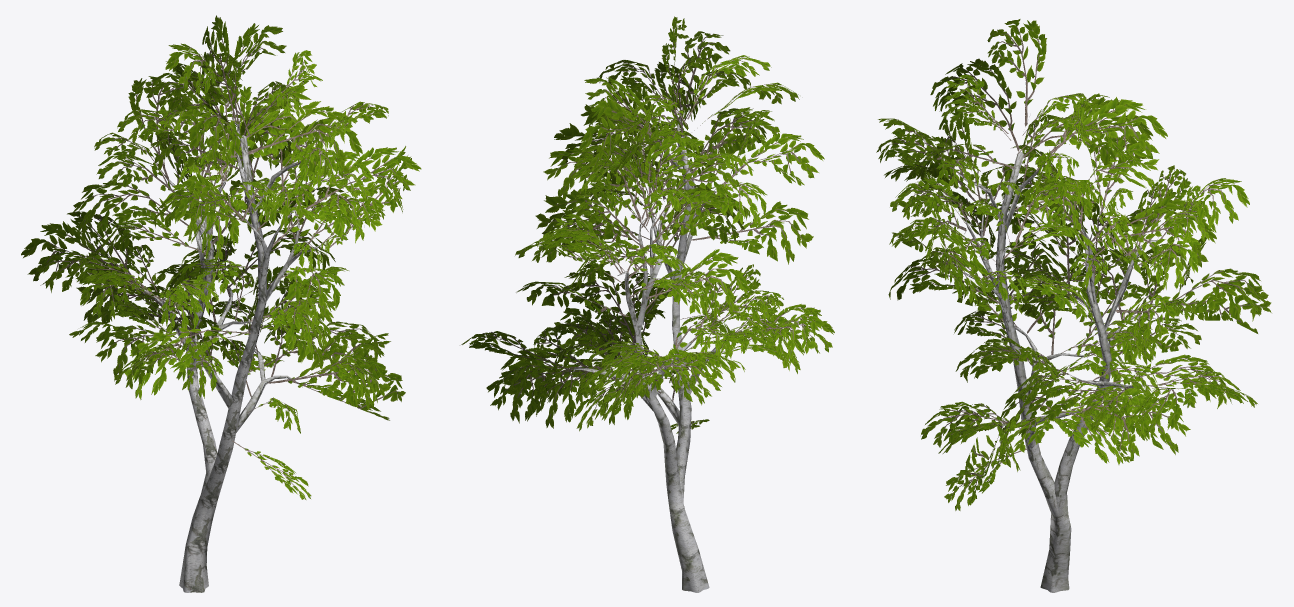
The model's file is birch.glb.
3 views of the same model, side by side, from view 1: azimuth 30°, elevation 25°; view 2: azimuth 150°, elevation 25°; view 3: azimuth 270°, elevation 25° (orthographic). The views are drawn at different scales.
Visible parts, largest first — view 1: m; view 2: m; view 3: m.
Boxes of the visible parts, x1,y1,x2,y2 form: m: (21, 15, 421, 592); m: (461, 16, 834, 592); m: (876, 19, 1271, 592).
Bounding box in the file's own units: 0.6122 × 1 × 0.675.
2 materials, 2 textured.
